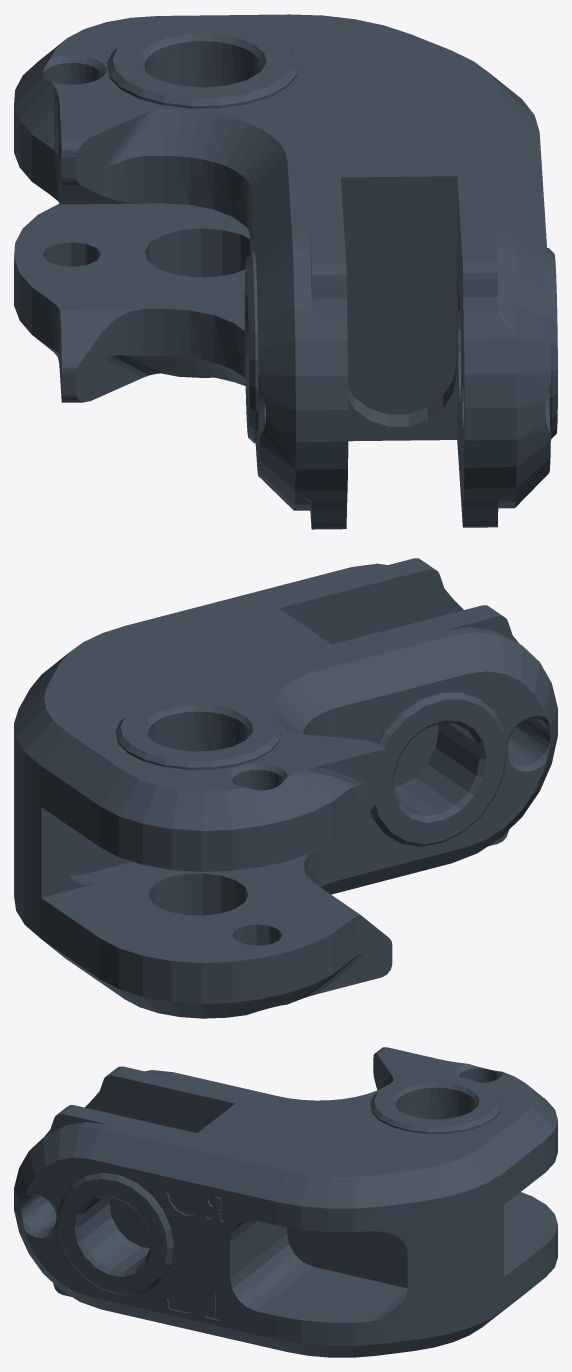
Rendered from t_cmc_yaw_link.glb.
The picture shows the model from 3 angles, top to bottom: view 1: azimuth 30°, elevation 25°; view 2: azimuth 150°, elevation 25°; view 3: azimuth 270°, elevation 25°; orthographic projection. The views are drawn at different scales.
Visible parts, largest first — view 1: t_cmc_yaw; view 2: t_cmc_yaw; view 3: t_cmc_yaw.
Boxes of the visible parts, x1,y1,x2,y2 form: t_cmc_yaw: [14, 14, 557, 529]; t_cmc_yaw: [14, 558, 557, 1018]; t_cmc_yaw: [14, 1047, 557, 1357].
Bounding box in the file's own units: 0.0168 × 0.0106 × 0.0273.
